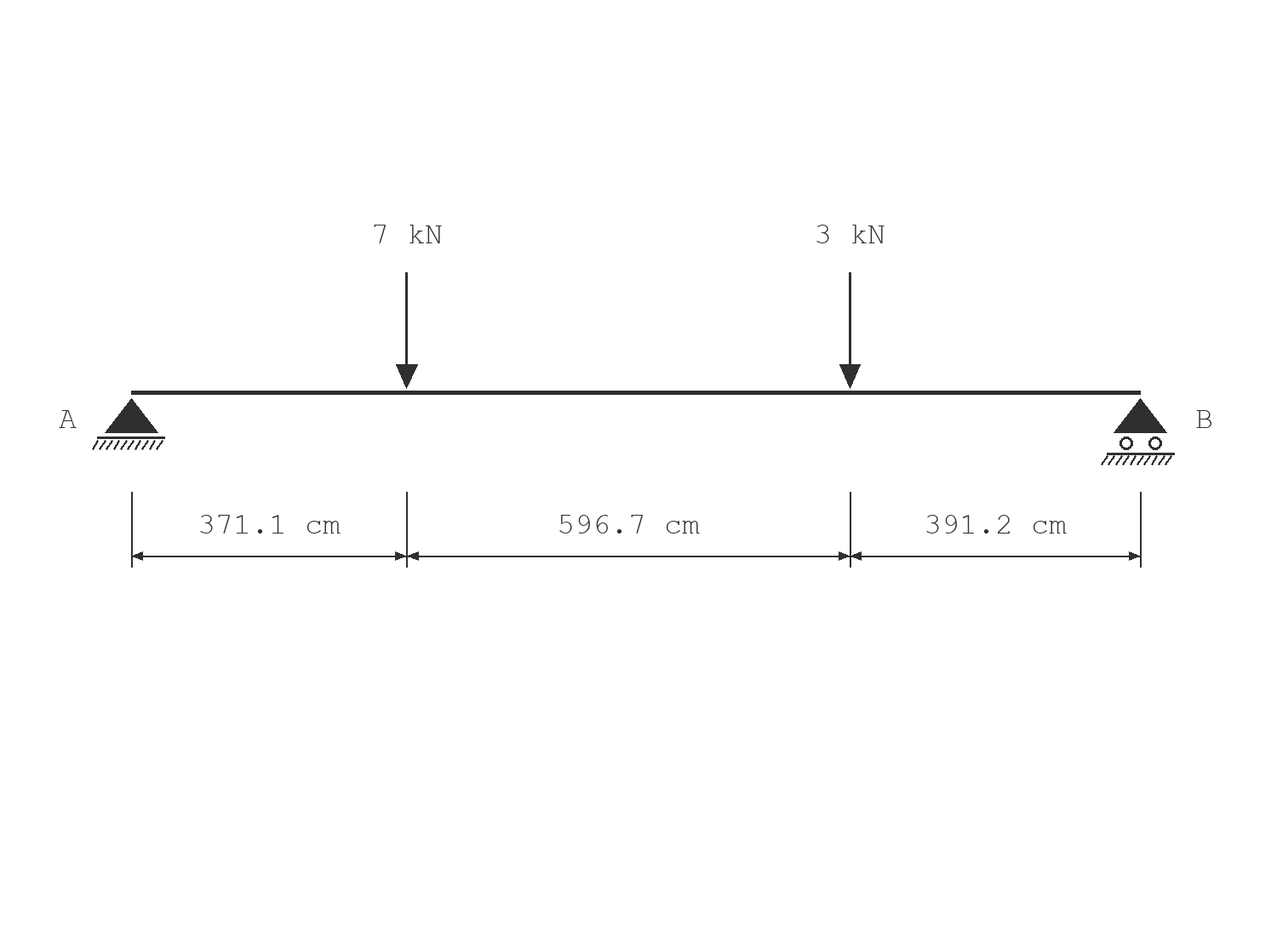pin_support: (92, 398, 165, 450)
point_load: (396, 272, 418, 389), (839, 272, 861, 389)
roller_support: (1101, 398, 1175, 465)
